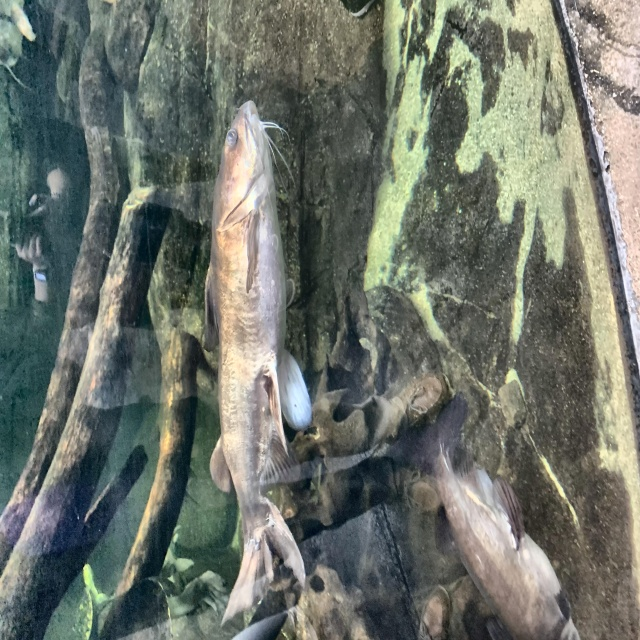fish: (203, 99, 312, 627), (410, 391, 581, 639)
